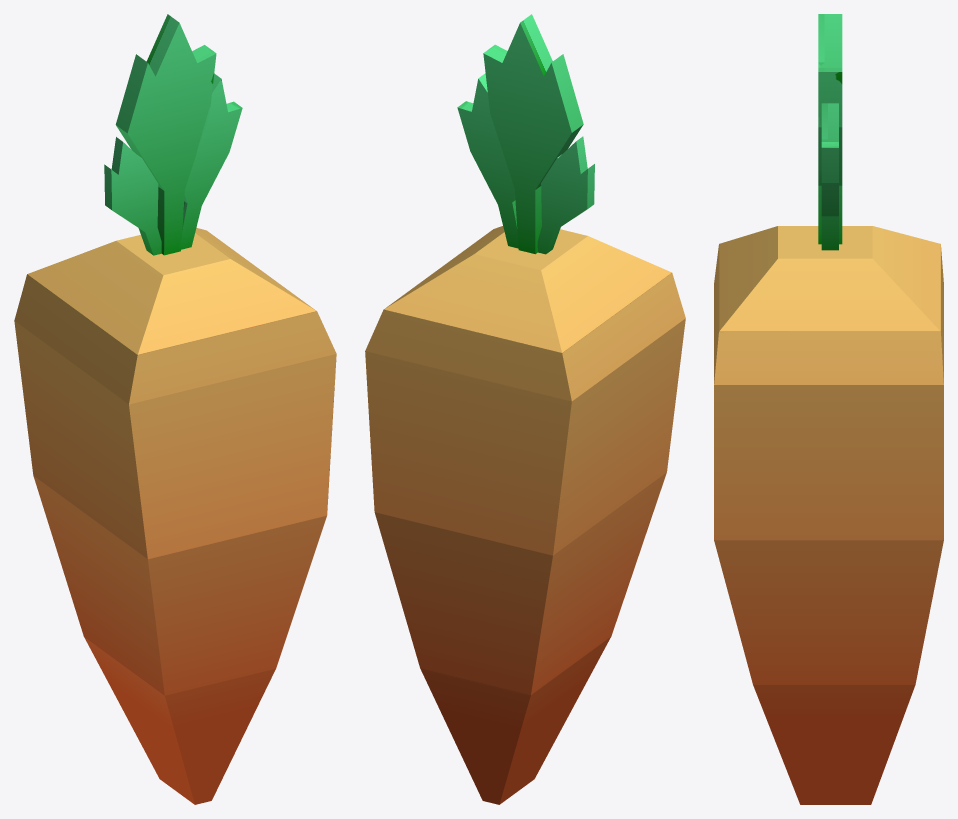
Rendered from Carrot.glb.
The picture shows the model from 3 angles, left to right: view 1: azimuth 30°, elevation 25°; view 2: azimuth 150°, elevation 25°; view 3: azimuth 270°, elevation 25°; orthographic projection.
Parts seen in each view (by area): view 1: Cube, Plane, Plane.001, Plane.002; view 2: Cube, Plane, Plane.001, Plane.002; view 3: Cube, Plane, Plane.001.
Part boxes in pixels (x1=…): Cube: x1=14, y1=228, x2=336, y2=804; Plane: x1=115, y1=14, x2=216, y2=255; Plane.001: x1=181, y1=73, x2=242, y2=249; Plane.002: x1=104, y1=137, x2=161, y2=255; Cube: x1=365, y1=226, x2=685, y2=804; Plane: x1=483, y1=14, x2=583, y2=254; Plane.001: x1=457, y1=73, x2=518, y2=248; Plane.002: x1=537, y1=136, x2=594, y2=254; Cube: x1=714, y1=226, x2=943, y2=804; Plane: x1=818, y1=14, x2=842, y2=244; Plane.001: x1=821, y1=103, x2=838, y2=250.
Size of the model in its own units: 0.8898 by 3.18 by 0.8499.
2 materials, 2 textured.
